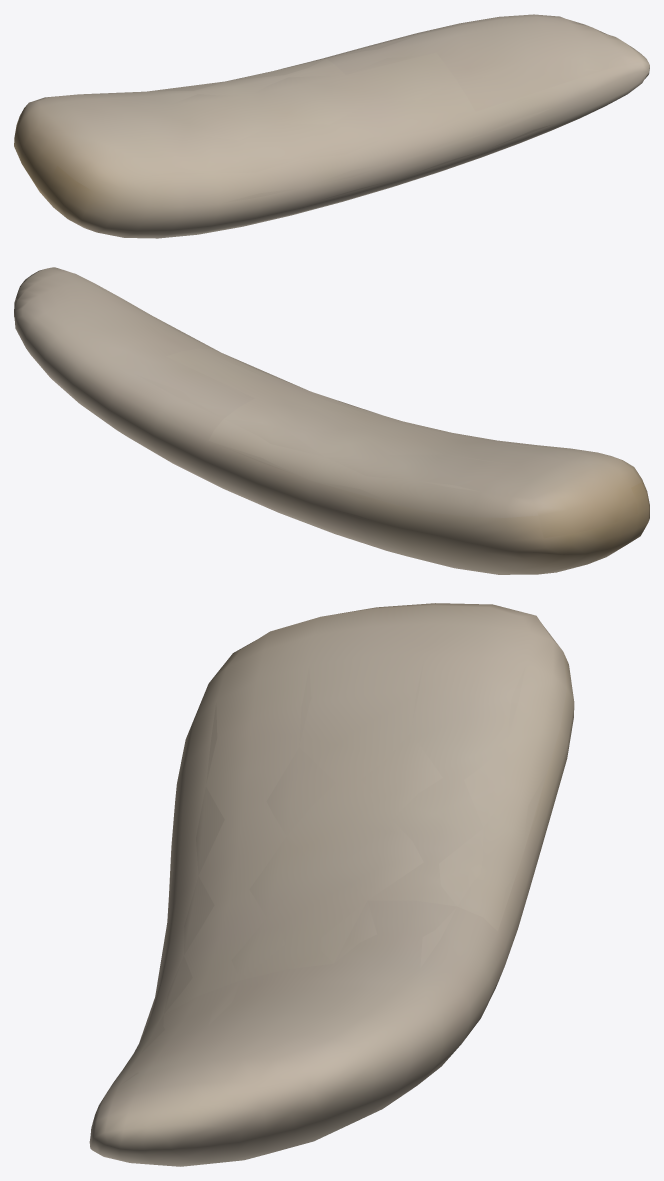
3 renders of one model, top to bottom at view 1: azimuth 30°, elevation 25°; view 2: azimuth 150°, elevation 25°; view 3: azimuth 270°, elevation 25°, orthographic. The views are drawn at different scales.
Parts seen in each view (by area): view 1: CC L4, CC L4 low; view 2: CC L4, CC L4 low; view 3: CC L4, CC L4 low.
Boxes of the visible parts, x1=… form: CC L4: x1=14, y1=14, x2=649, y2=238; CC L4 low: x1=84, y1=35, x2=600, y2=203; CC L4: x1=14, y1=267, x2=649, y2=574; CC L4 low: x1=96, y1=284, x2=549, y2=528; CC L4: x1=89, y1=603, x2=574, y2=1166; CC L4 low: x1=121, y1=655, x2=553, y2=1084.
Size of the model in its own units: 2.22 by 0.4523 by 0.8501.
1 material, 1 textured.
